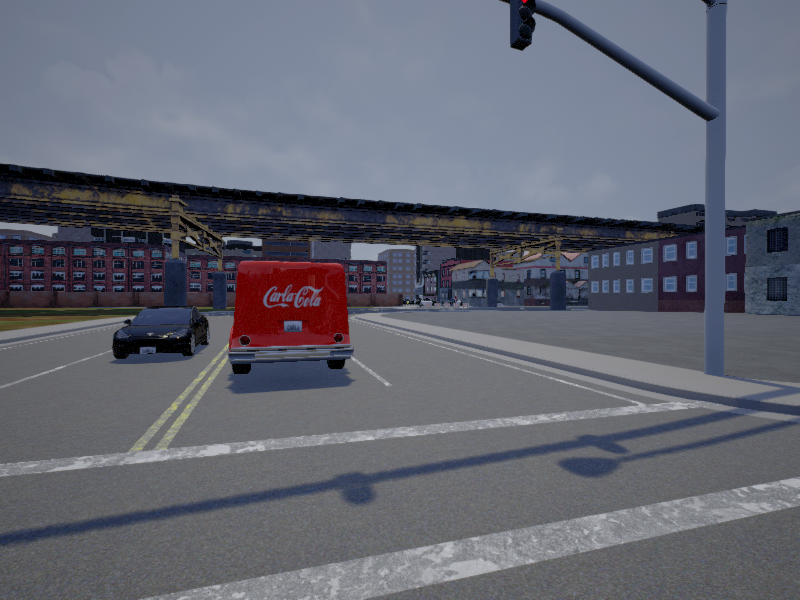Benign: (232, 259, 346, 377), (113, 304, 208, 357)
